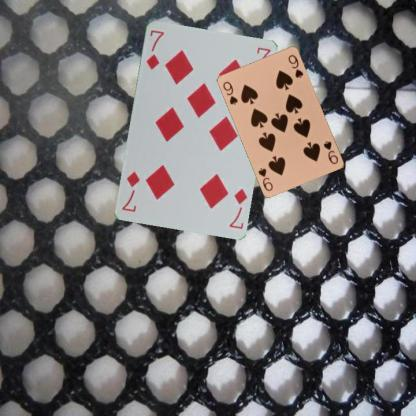7d: (226, 185, 249, 230), (144, 27, 166, 71)
9s: (320, 138, 340, 165), (221, 79, 239, 106)
